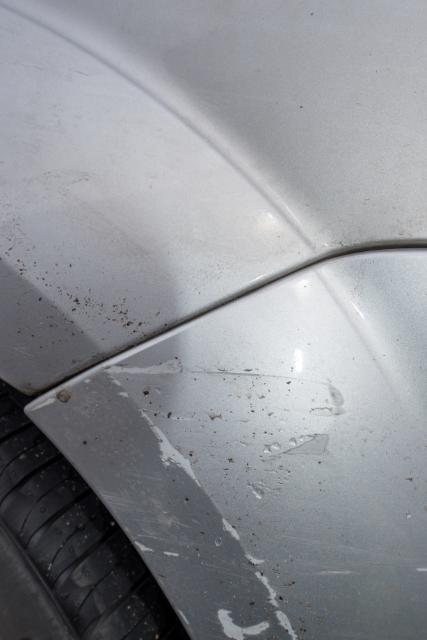Bumper: (87, 350, 402, 640)
